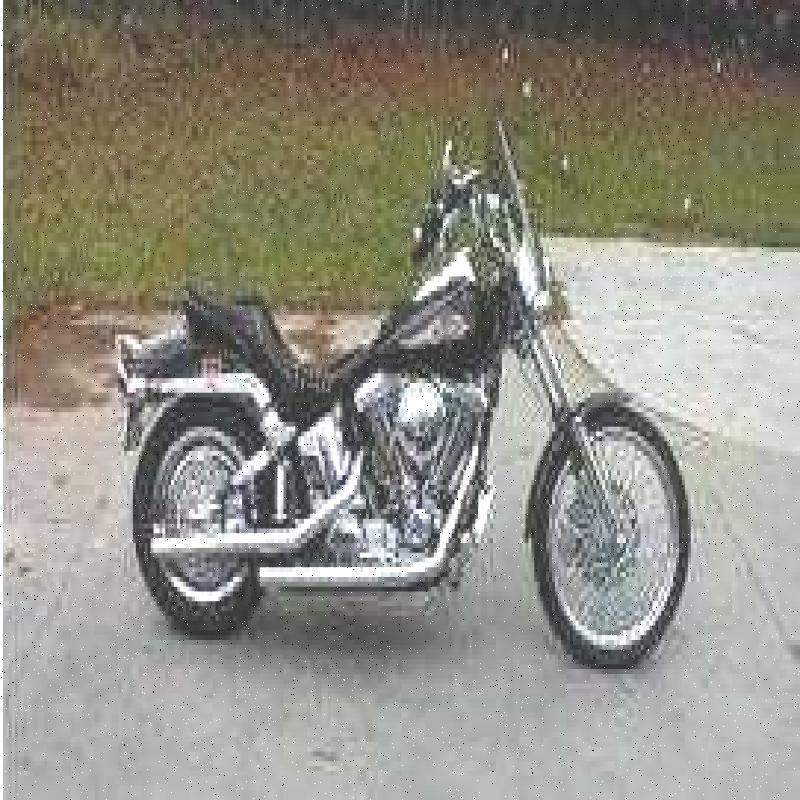bike: (92, 114, 700, 680)
